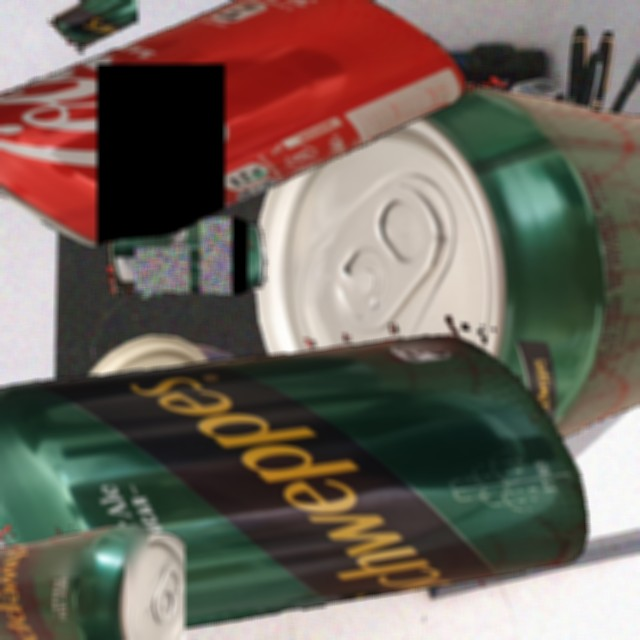coca cola: (0, 0, 506, 390)
pepsi: (24, 301, 371, 619)
schweppes: (0, 160, 629, 640), (238, 49, 640, 486), (95, 194, 274, 326), (0, 525, 185, 640), (48, 0, 138, 62)
